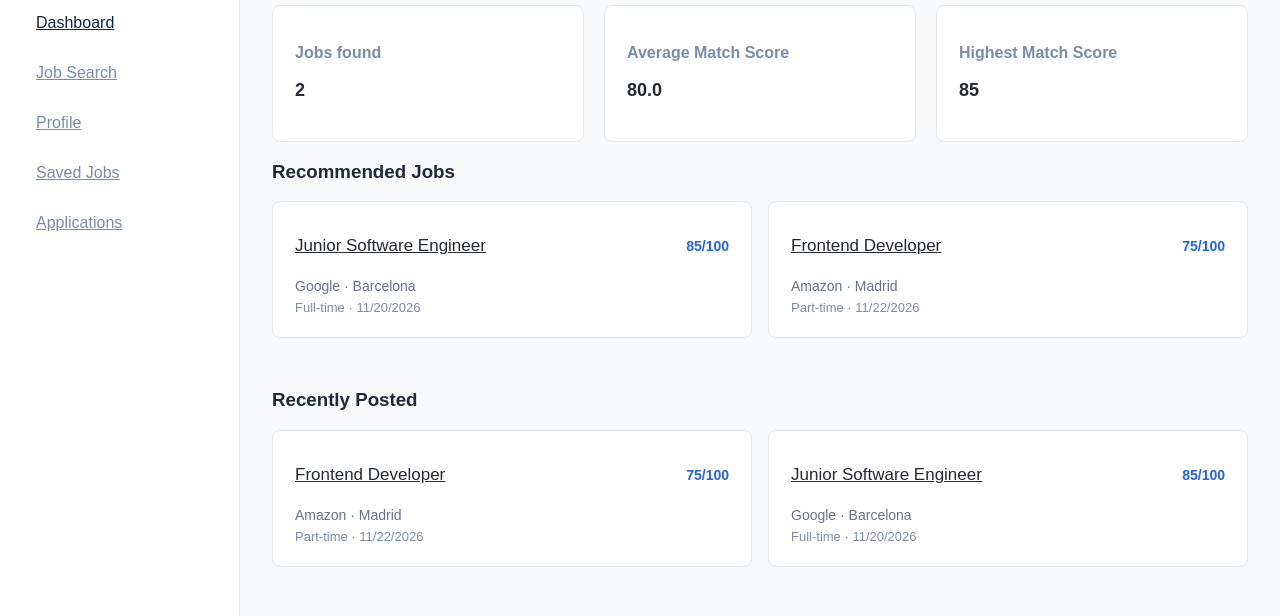
Test: App › allows the user to edit and save their profile
Note: Navigate to Profile
Click the link "Profile".
click(59, 123)  # box x1=36 y1=114 x2=81 y2=131
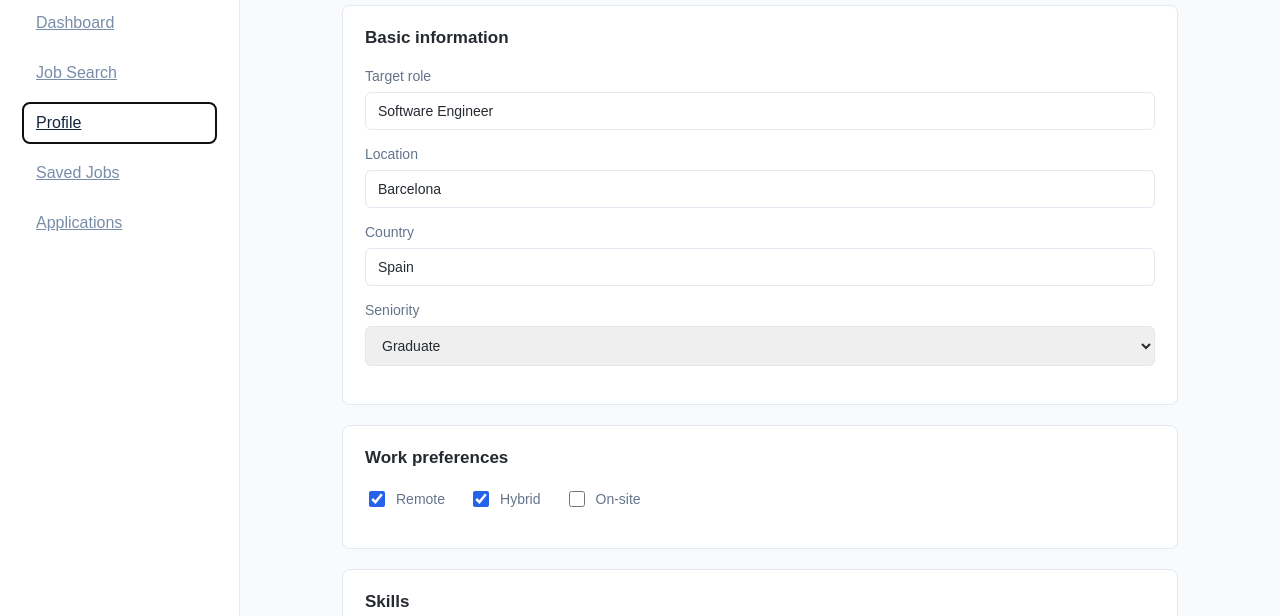
Note: Edit the target role
Replace the text in the field showing "Software Engineer" with "Backend Developer" at (760, 111), box x1=365 y1=92 x2=1155 y2=130
(page scrolled)
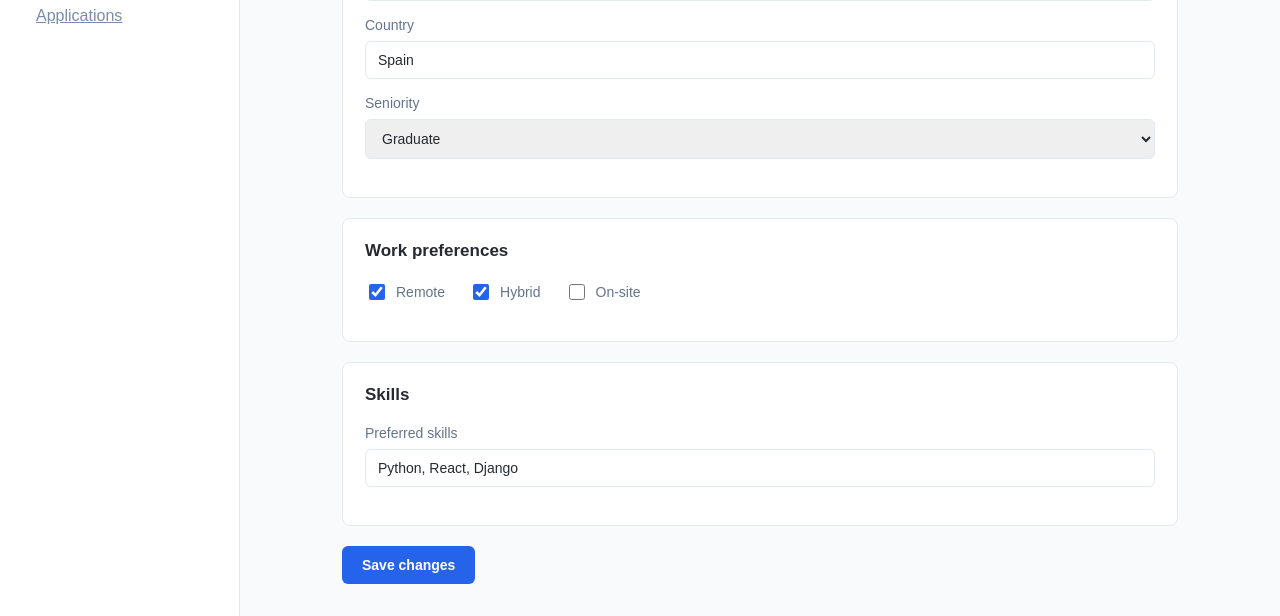
Note: Save changes
Click the button "Save changes".
click(409, 565)  # box x1=342 y1=546 x2=475 y2=584
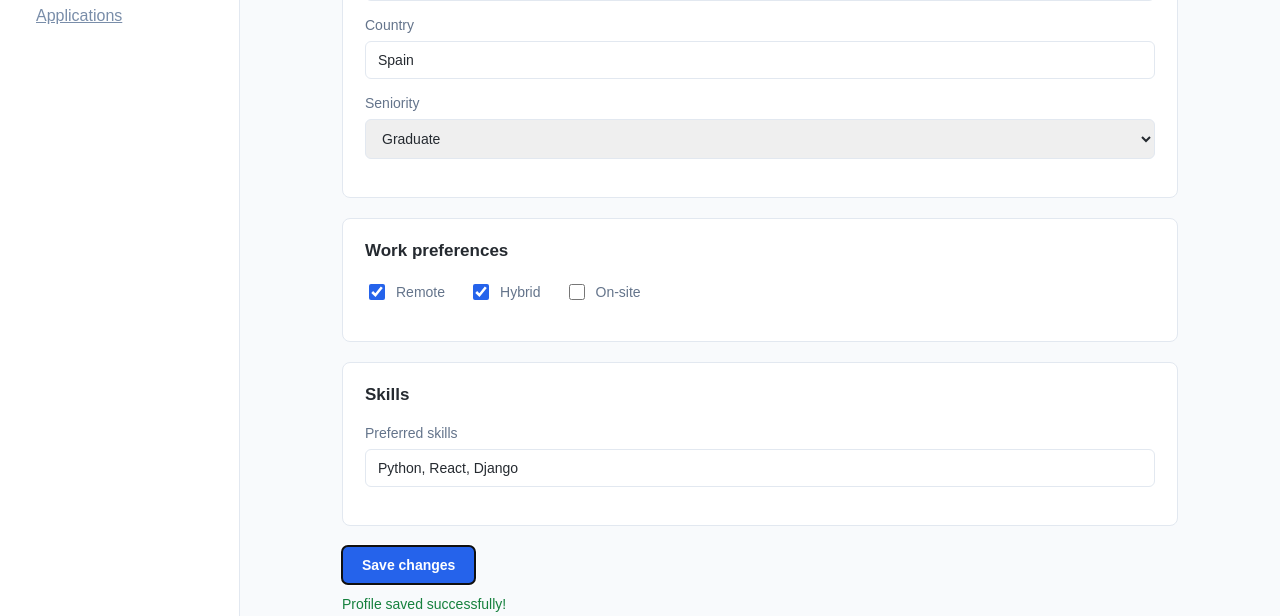
Result: the text "Profile saved successfully!" is shown at x1=342 y1=596 x2=506 y2=612
